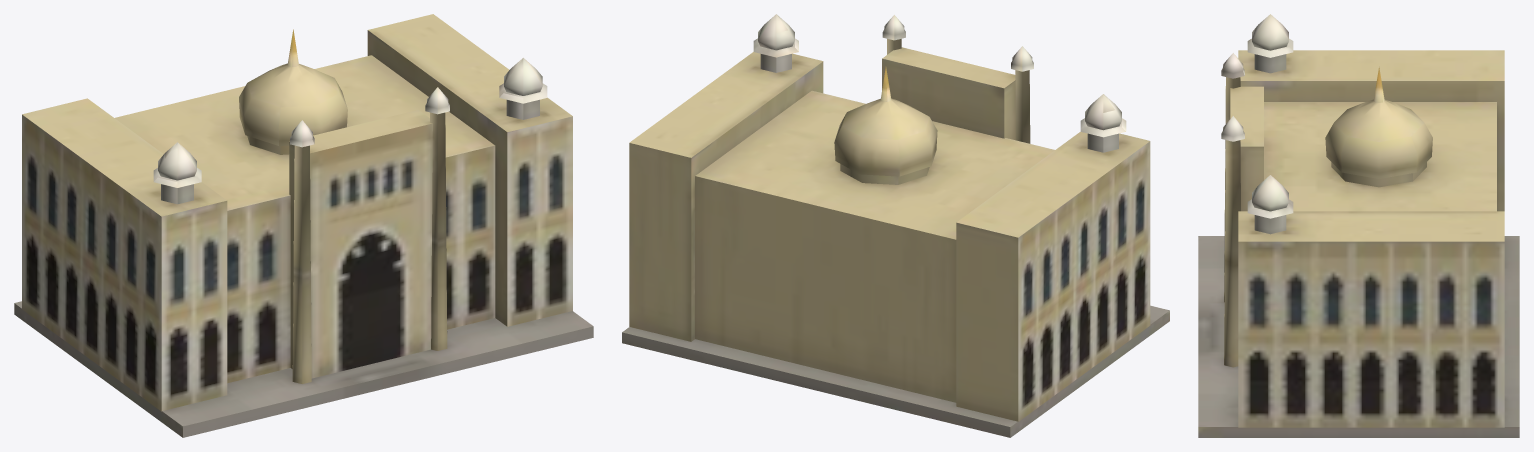
Rendered from state_museum.glb.
3 views of the same model, side by side, from view 1: azimuth 30°, elevation 25°; view 2: azimuth 150°, elevation 25°; view 3: azimuth 270°, elevation 25° (orthographic). The views are drawn at different scales.
Parts seen in each view (by area): view 1: state_museum_body; view 2: state_museum_body; view 3: state_museum_body.
Boxes of the visible parts, left/top/right/bottom form: state_museum_body: left=14, top=14, right=593, bottom=437; state_museum_body: left=622, top=14, right=1169, bottom=437; state_museum_body: left=1198, top=14, right=1519, bottom=437.
Size of the model in its own units: 58.3 by 39.25 by 41.4.
Materials: 1 (1 with a texture image).
